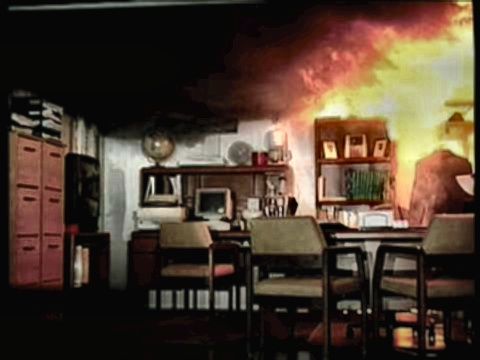fire: (316, 5, 480, 193)
